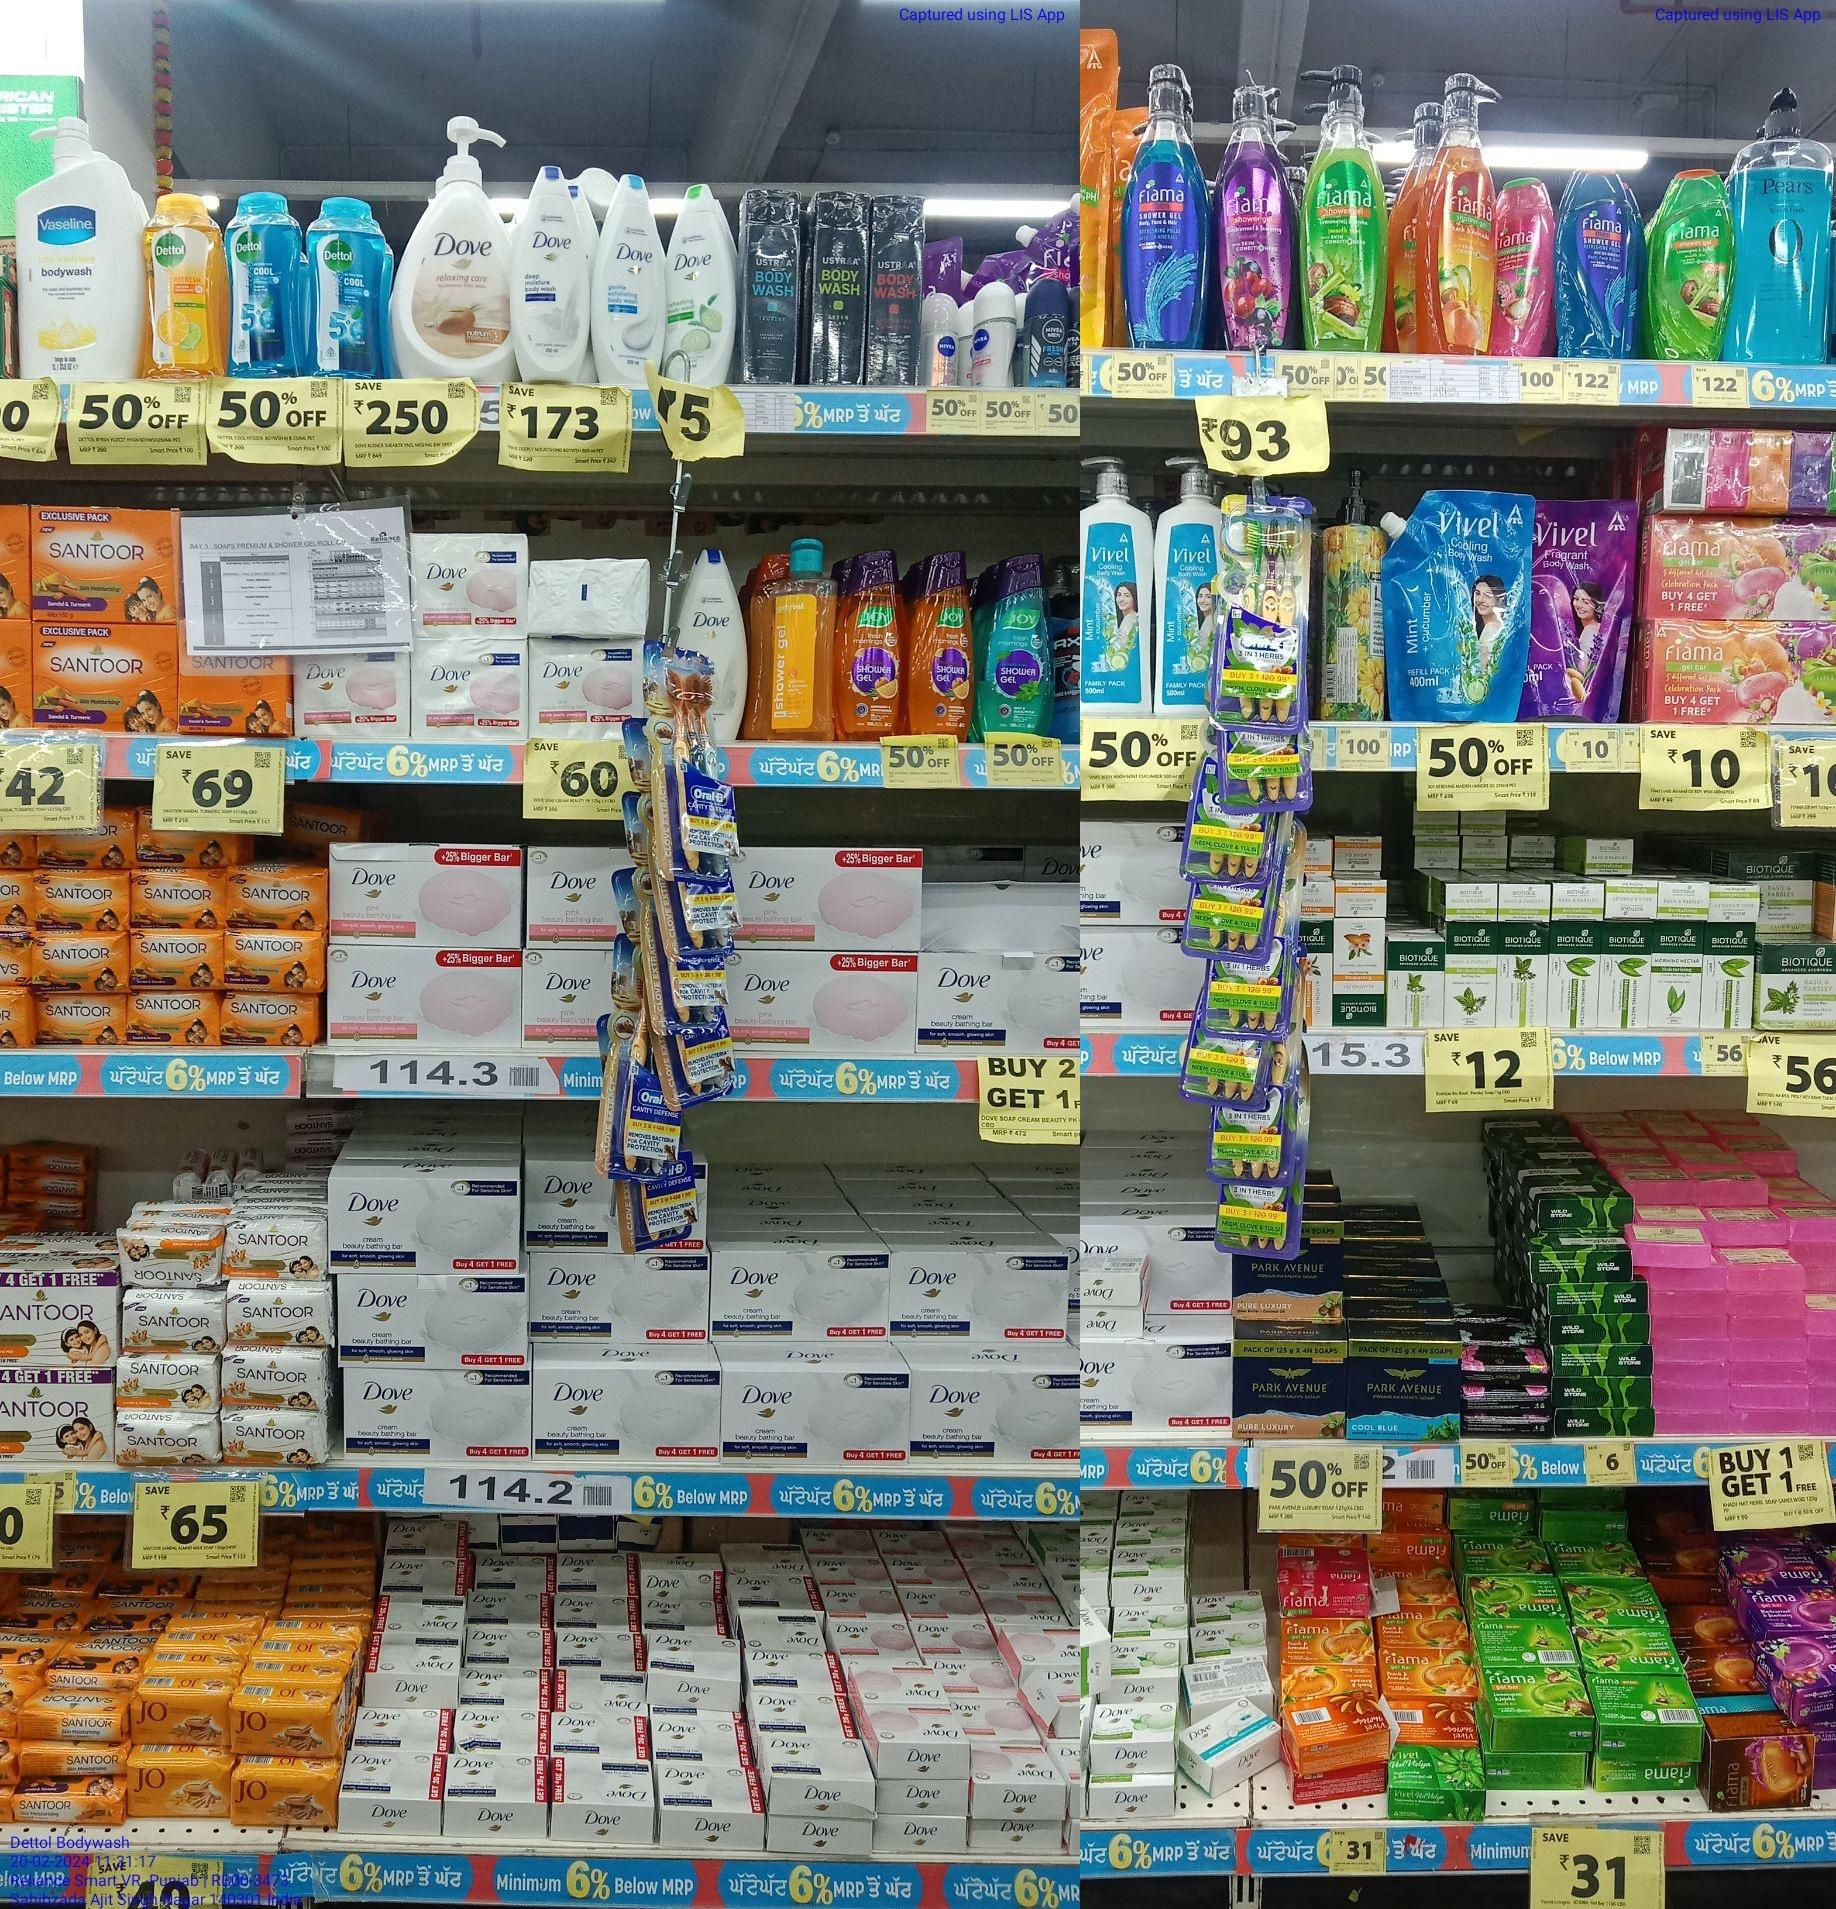Dettol_Bodywash_Cool: (314, 191, 389, 382), (230, 191, 305, 380)
Dettol_Bodywash_Refresh: (143, 189, 222, 382)
Dove_Deep_Moisture_Body_Wash_250ML: (511, 162, 590, 378), (711, 547, 745, 738)
Dove_Gentle_Exfoliating_Body_Wash_250ML: (597, 177, 665, 375)
Dove_Refreshing_Body_Wash_250ML: (670, 186, 735, 384)
Fiama_Shower_Gel_Lemongrass_and_Jojoba_250ML: (1652, 164, 1732, 360)
Fiama_Shower_Gel_Patchouli_and_Macadamia_250ML: (1495, 172, 1550, 353)
Joy_Shower_Gel_Mandarin_and_Lemongrass_250ML: (909, 556, 973, 736), (839, 556, 905, 731)
Joy_Shower_Gel_Mint_and_Eucalyptus_250ML: (984, 554, 1054, 738)
